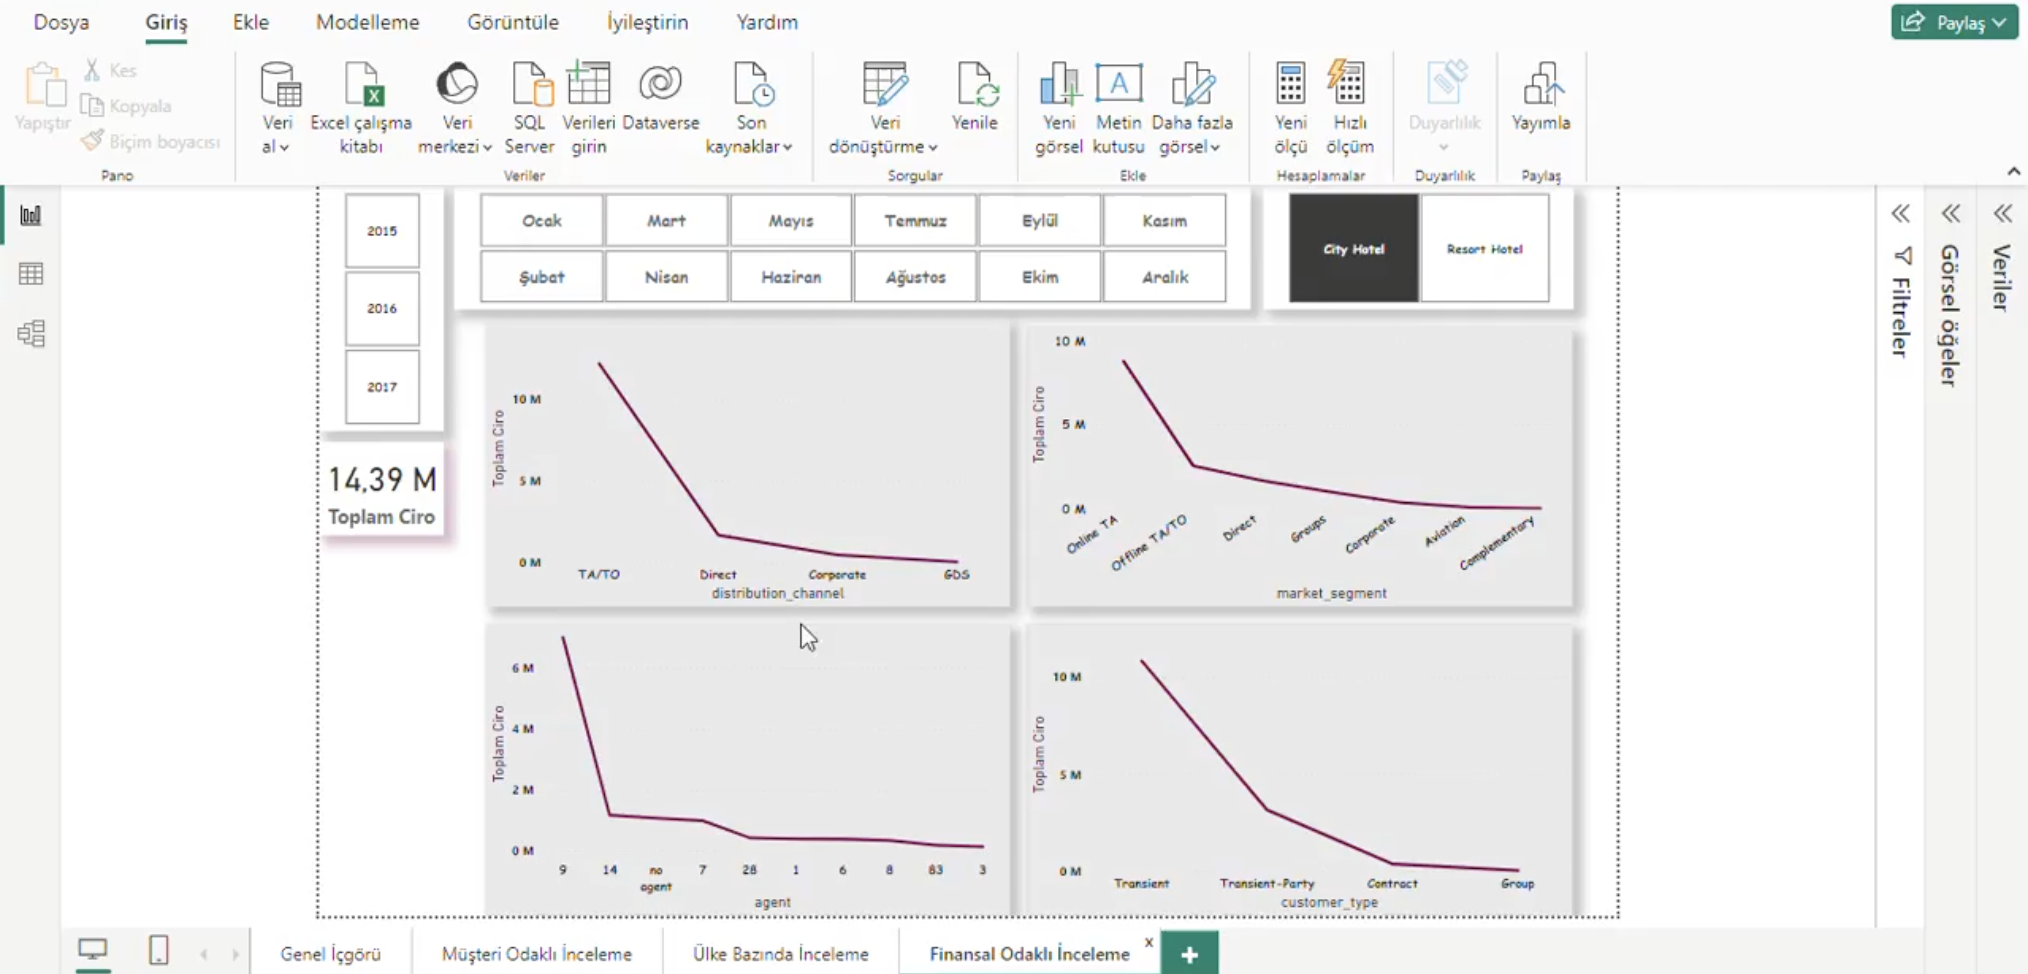

The dashboard page shown, as its layout file describes it:
{"tool":"powerbi","page":{"name":"Finansal Odaklı İnceleme","canvas":[1280,720],"ordinal":3},"visuals":[{"type":"slicer","fields":{"Values":["hotel_bookings.Arrival_date.Varyasyon.Tarih Hiyerarşisi.Yıl"]},"box":[0,1.5,122.7,240.9],"z":0},{"type":"slicer","fields":{"Values":["hotel_bookings.Arrival_date.Varyasyon.Tarih Hiyerarşisi.Ay"]},"box":[133.3,1.5,784.8,121.2],"z":1000},{"type":"slicer","fields":{"Values":["hotel_bookings.hotel"]},"box":[930.3,1.5,306.1,121.2],"z":2000},{"type":"card","fields":{"Values":["DAX.City Hotel Toplam Ciro"]},"box":[0,253,122.7,92.4],"z":3000},{"type":"lineChart","fields":{"Category":["hotel_bookings.customer_type"],"Y":["DAX.Toplam Ciro"]},"box":[697,431.8,539.4,287.9],"z":4000},{"type":"lineChart","fields":{"Category":["hotel_bookings.market_segment"],"Y":["DAX.Toplam Ciro"]},"box":[697,139.4,539.4,275.8],"z":5000},{"type":"lineChart","fields":{"Category":["hotel_bookings.distribution_channel"],"Y":["DAX.Toplam Ciro"]},"box":[163.6,133.3,516.7,281.8],"z":6000},{"type":"lineChart","fields":{"Category":["hotel_bookings.agent"],"Y":["DAX.Toplam Ciro"]},"box":[163.6,431.8,516.7,287.9],"z":7000}]}

Visuals, with their boxes on the page's 1280x720 design canvas (x1, y1, x2, y2). These are canvas units, not pixel positions in the 2028x974 screenshot, which may show the page scaled, cropped or inside an application window:
slicer - hotel_bookings.Arrival_date.Varyasyon.Tarih Hiyerarşisi.Yıl: bbox(0, 2, 123, 242)
slicer - hotel_bookings.Arrival_date.Varyasyon.Tarih Hiyerarşisi.Ay: bbox(133, 2, 918, 123)
slicer - hotel_bookings.hotel: bbox(930, 2, 1236, 123)
card - DAX.City Hotel Toplam Ciro: bbox(0, 253, 123, 345)
lineChart - hotel_bookings.customer_type x DAX.Toplam Ciro: bbox(697, 432, 1236, 720)
lineChart - hotel_bookings.market_segment x DAX.Toplam Ciro: bbox(697, 139, 1236, 415)
lineChart - hotel_bookings.distribution_channel x DAX.Toplam Ciro: bbox(164, 133, 680, 415)
lineChart - hotel_bookings.agent x DAX.Toplam Ciro: bbox(164, 432, 680, 720)
